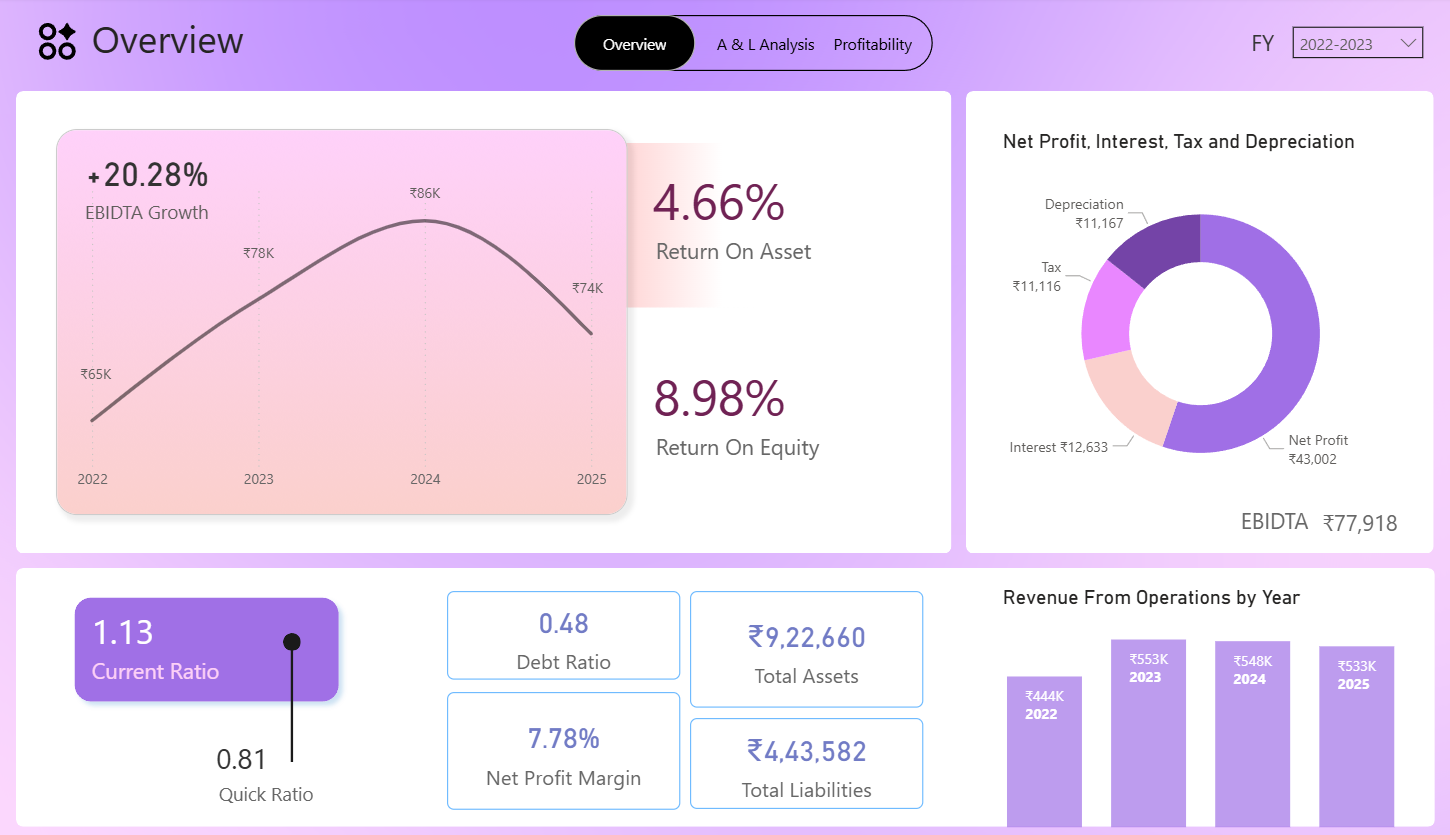

The page's visual inventory and layout, read from the dashboard file:
{"tool":"powerbi","page":{"name":"Overview","canvas":[1280,720],"ordinal":0},"visuals":[{"type":"image","box":[0,0,1280.3,720.5],"z":0},{"type":"image","box":[67.2,112.7,490.1,331.5],"z":0,"group":"g4"},{"type":"image","box":[506.8,124.8,323.4,141.5],"z":0,"group":"g2"},{"type":"shape","box":[98.1,553.3,342.7,102.2],"z":0,"group":"g11"},{"type":"shape","box":[511.8,15.5,306.7,48],"z":1000,"group":"g5"},{"type":"shape","box":[32.7,80.9,801.8,396.4],"z":1000},{"type":"card","fields":{"Values":["_Ratios.ROA"]},"box":[506.8,112.7,257.7,121.3],"z":1000,"group":"g2"},{"type":"group","id":"g1","title":"Group 2","box":[506.8,280.4,394.1,131.4],"z":1000,"group":"g3"},{"type":"card","fields":{"Values":["_Ratios.ROE"]},"box":[506.8,280.4,257.7,121.3],"z":1000,"group":"g1"},{"type":"shape","box":[261.7,544.6,15.5,15.5],"z":1000,"group":"g11"},{"type":"actionButton","box":[510.9,15.5,104,48],"z":2000,"group":"g5"},{"type":"slicer","fields":{"Values":["Date Dim.FY"]},"box":[1117.3,15.5,131.8,44.5],"z":2000},{"type":"group","id":"g2","title":"Group 2","box":[506.8,112.7,394.1,153.6],"z":2000,"group":"g3"},{"type":"group","id":"g3","title":"Group 3","box":[67.2,112.7,833.7,331.5],"z":3000},{"type":"group","id":"g4","title":"Group 1","box":[67.2,112.7,490.1,331.5],"z":3000,"group":"g3"},{"type":"lineChart","fields":{"Category":["Date Dim.Year"],"Y":["_Measures.EBIDTA"]},"box":[80.3,149.1,463.8,281.9],"z":3000,"group":"g4"},{"type":"actionButton","box":[624.7,19.9,100.4,40],"z":4000,"group":"g5"},{"type":"card","fields":{"Values":["_Ratios.EBIDTA Growth"]},"box":[67.2,112.7,155.6,94],"z":4000,"group":"g4"},{"type":"shape","box":[32.7,489.1,1216.4,221.8],"z":4000},{"type":"shape","box":[847.3,80.9,400.9,396.4],"z":5000},{"type":"actionButton","box":[716.2,19.9,100.4,40],"z":6000,"group":"g5"},{"type":"donutChart","fields":{"Y":["_Measures.Net Profit","_Measures.Interest","_Measures.Tax","_Measures.Depreciation"]},"box":[873.6,112.7,349.1,331.8],"z":6000},{"type":"textbox","box":[576.5,199.6,324.4,44.5],"z":6000,"group":"g2"},{"type":"textbox","box":[576.5,367.3,324.4,44.5],"z":6000,"group":"g1"},{"type":"textbox","box":[92.4,8,255.1,53.3],"z":7000},{"type":"group","id":"g5","title":"Group 1","box":[510.9,15.5,307.6,48],"z":8000},{"type":"columnChart","fields":{"Y":["_Measures.Revenue From Operations"],"Category":["Date Dim.Year"]},"box":[873.6,503.6,349.1,213.6],"z":9000},{"type":"textbox","box":[1075.5,21.8,50.9,40],"z":10000},{"type":"group","id":"g6","title":"Group 4","box":[169,634.7,196.4,76.4],"z":10000,"group":"g9"},{"type":"group","id":"g7","title":"Group 7","box":[1077.3,430.9,164.5,40],"z":11000},{"type":"group","id":"g8","title":"Group 5","box":[67.3,505.5,251.7,107.3],"z":11000,"group":"g9"},{"type":"group","id":"g9","title":"Group 8","box":[67.3,505.5,373.6,205.5],"z":12000},{"type":"shape","box":[74.4,505.5,244.5,107.3],"z":12750,"group":"g8"},{"type":"group","id":"g10","title":"Group 9","box":[401.8,509.1,408.2,187.3],"z":13000},{"type":"group","id":"g11","title":"Group 6","box":[98.1,544.6,342.7,110.9],"z":13000,"group":"g9"},{"type":"image","box":[48,17.8,40,40],"z":14000},{"type":"card","fields":{"Values":["_Measures.EBIDTA"]},"box":[1127.3,433.6,114.5,37.3],"z":14500,"group":"g7"},{"type":"card","fields":{"Values":["_Ratios.Current Ratio"]},"box":[67.3,524.9,114.5,37.3],"z":14500,"group":"g12"},{"type":"card","fields":{"Values":["_Ratios.Quick Ratio"]},"box":[169,634.7,114.5,37.3],"z":14500,"group":"g6"},{"type":"textbox","box":[1077.3,430.9,68.2,37.3],"z":15000,"group":"g7"},{"type":"card","fields":{"Values":["_Measures.Total Assets"]},"box":[610,509.1,200,100],"z":15000,"group":"g10"},{"type":"textbox","box":[92.8,559.4,163.6,44.5],"z":15000,"group":"g12"},{"type":"textbox","box":[201.7,666.3,163.6,44.5],"z":15000,"group":"g6"},{"type":"group","id":"g12","title":"Group 4","box":[67.3,524.9,189.1,79.1],"z":15001,"group":"g8"},{"type":"card","fields":{"Values":["_Measures.Total Liabilities"]},"box":[610,618.2,200,78.2],"z":16000,"group":"g10"},{"type":"card","fields":{"Values":["_Ratios.Debt Ratio"]},"box":[401.8,509.1,200,76.4],"z":17000,"group":"g10"},{"type":"card","fields":{"Values":["_Ratios.New Profit Margin"]},"box":[401.8,595.5,200,100.9],"z":18000,"group":"g10"}]}

Visuals, with their boxes in screenshot pixels (x1, y1, x2, y2), scaled from the page's 1280x720 canvas onto the 1450x835 screenshot:
image: 0, 0, 1449, 834
image: 76, 131, 631, 515
image: 574, 145, 940, 309
shape: 111, 642, 499, 760
shape: 580, 18, 927, 74
shape: 37, 94, 945, 554
card - _Ratios.ROA: 574, 131, 866, 271
"Group 2" group: 574, 325, 1021, 478
card - _Ratios.ROE: 574, 325, 866, 466
shape: 296, 632, 314, 650
actionButton: 579, 18, 697, 74
slicer - Date Dim.FY: 1266, 18, 1415, 70
"Group 2" group: 574, 131, 1021, 309
"Group 3" group: 76, 131, 1021, 515
"Group 1" group: 76, 131, 631, 515
lineChart - Date Dim.Year x _Measures.EBIDTA: 91, 173, 616, 500
actionButton: 708, 23, 821, 69
card - _Ratios.EBIDTA Growth: 76, 131, 252, 240
shape: 37, 567, 1415, 824
shape: 960, 94, 1414, 554
actionButton: 811, 23, 925, 69
donutChart - _Measures.Net Profit x _Measures.Interest: 990, 131, 1385, 515
textbox: 653, 231, 1021, 283
textbox: 653, 426, 1021, 478
textbox: 105, 9, 394, 71
"Group 1" group: 579, 18, 927, 74
columnChart - _Measures.Revenue From Operations x Date Dim.Year: 990, 584, 1385, 832
textbox: 1218, 25, 1276, 72
"Group 4" group: 191, 736, 414, 825
"Group 7" group: 1220, 500, 1407, 546
"Group 5" group: 76, 586, 361, 711
"Group 8" group: 76, 586, 499, 825
shape: 84, 586, 361, 711
"Group 9" group: 455, 590, 918, 808
"Group 6" group: 111, 632, 499, 760
image: 54, 21, 100, 67
card - _Measures.EBIDTA: 1277, 503, 1407, 546
card - _Ratios.Current Ratio: 76, 609, 206, 652
card - _Ratios.Quick Ratio: 191, 736, 321, 779
textbox: 1220, 500, 1298, 543
card - _Measures.Total Assets: 691, 590, 918, 706
textbox: 105, 649, 290, 700
textbox: 228, 773, 414, 824
"Group 4" group: 76, 609, 290, 700
card - _Measures.Total Liabilities: 691, 717, 918, 808
card - _Ratios.Debt Ratio: 455, 590, 682, 679
card - _Ratios.New Profit Margin: 455, 691, 682, 808
